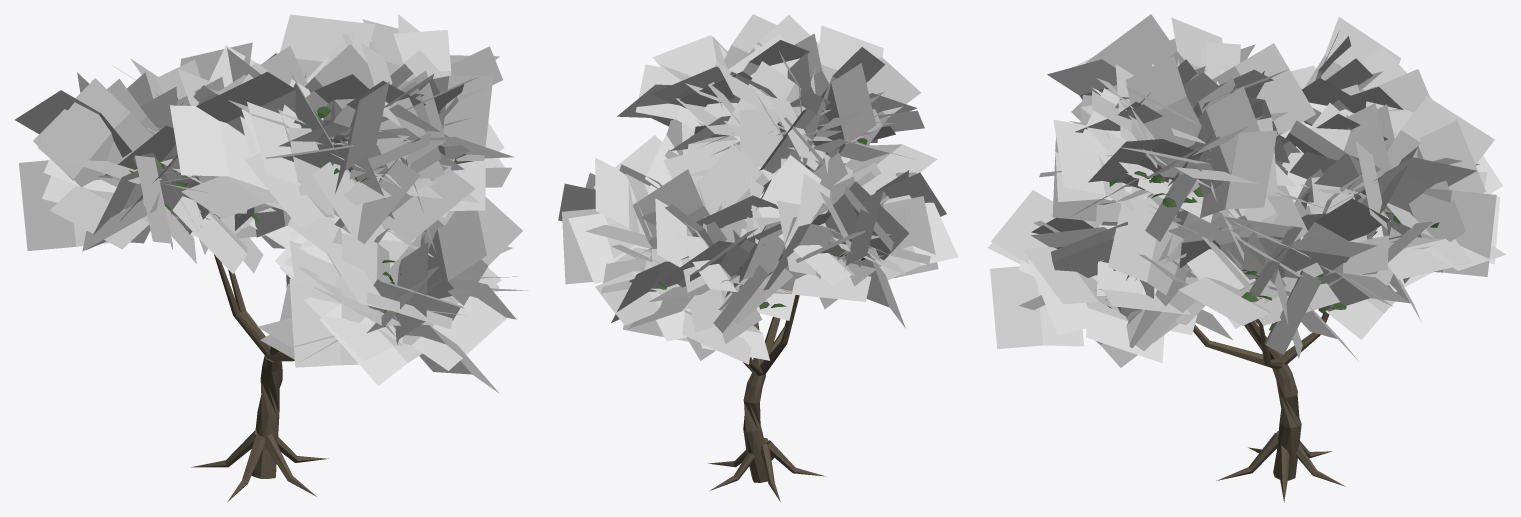
Rendered from CheneVert_Jeune_LOD1.fbx.
3 renders of one model, left to right at view 1: azimuth 30°, elevation 25°; view 2: azimuth 150°, elevation 25°; view 3: azimuth 270°, elevation 25°, orthographic. The views are drawn at different scales.
Visible parts, largest first — view 1: CheneVert_Jeune_LOD1; view 2: CheneVert_Jeune_LOD1; view 3: CheneVert_Jeune_LOD1.
Boxes of the visible parts, x1,y1,x2,y2 form: CheneVert_Jeune_LOD1: (15,14,528,502); CheneVert_Jeune_LOD1: (558,14,958,501); CheneVert_Jeune_LOD1: (987,14,1505,502).
Size of the model in its own units: 444 by 447 by 477.
